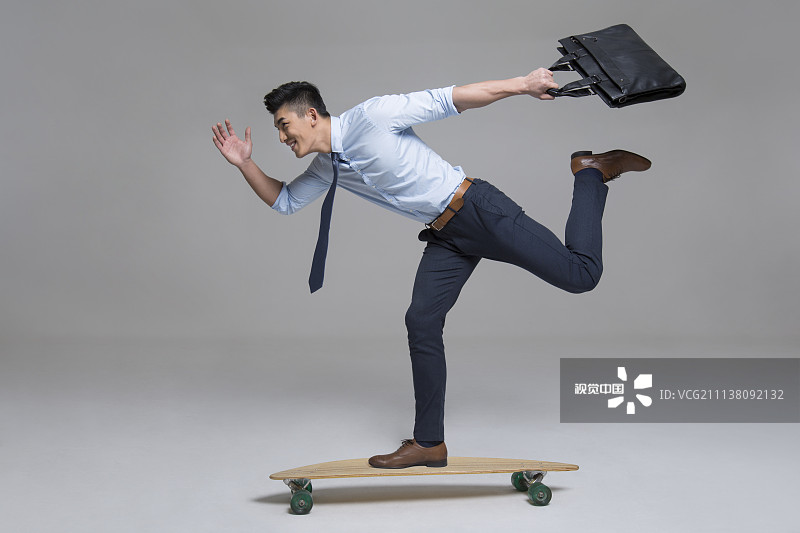no-phone: (199, 111, 262, 181), (517, 53, 576, 110)
